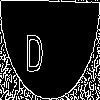D: (25, 24, 44, 72)
